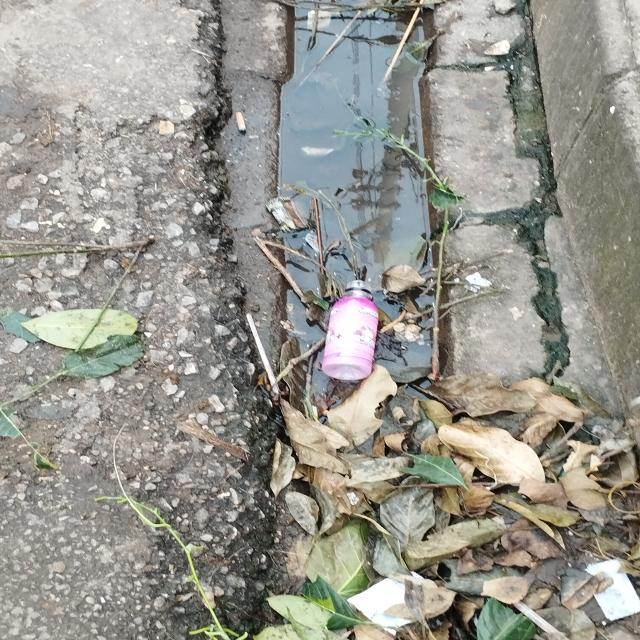plastic: (323, 282, 378, 381)
